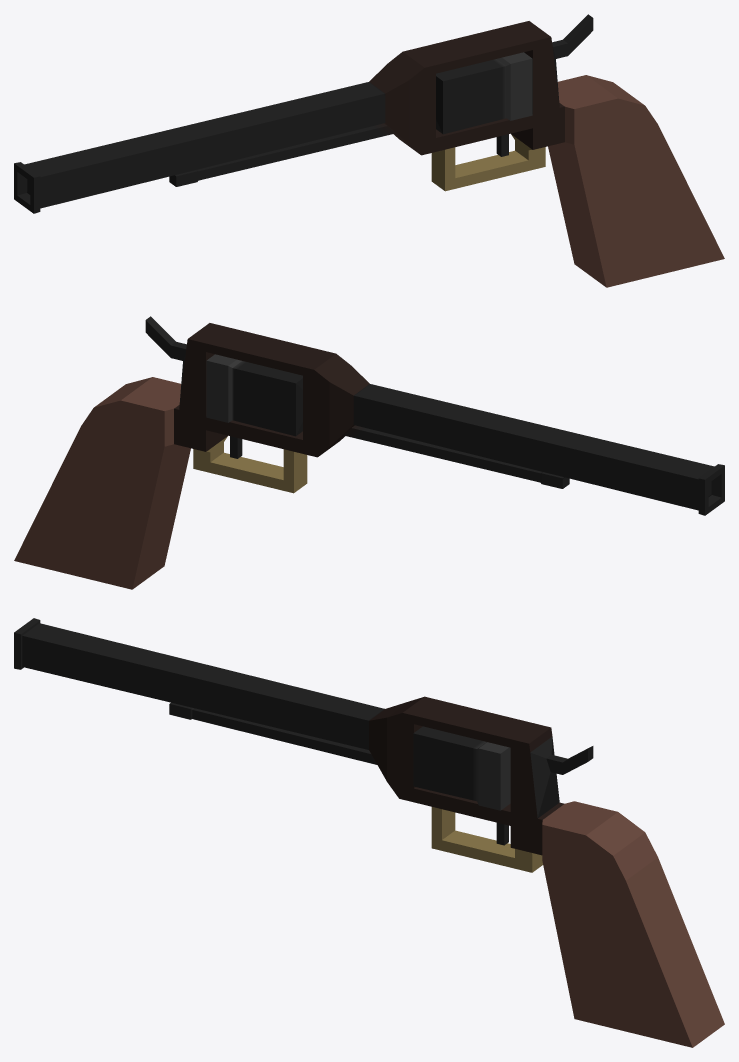
File: pistol.fbx
3 renders of one model, top to bottom at view 1: azimuth 30°, elevation 25°; view 2: azimuth 150°, elevation 25°; view 3: azimuth 330°, elevation 25°, orthographic.
Visible parts, largest first — view 1: Pistol; view 2: Pistol; view 3: Pistol.
Part boxes in pixels (x1,y1,x2,y2): Pistol: (14,14,724,287); Pistol: (14,316,724,589); Pistol: (14,618,724,1047).
Bounding box in the file's own units: 0.5774 × 0.2093 × 0.047.
